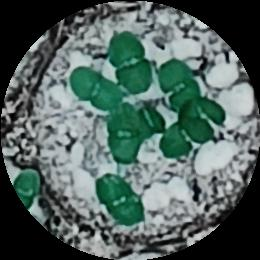Basil: (108, 31, 153, 92), (67, 67, 123, 112), (98, 173, 146, 225), (159, 61, 202, 113), (106, 105, 141, 163), (158, 119, 207, 160)
